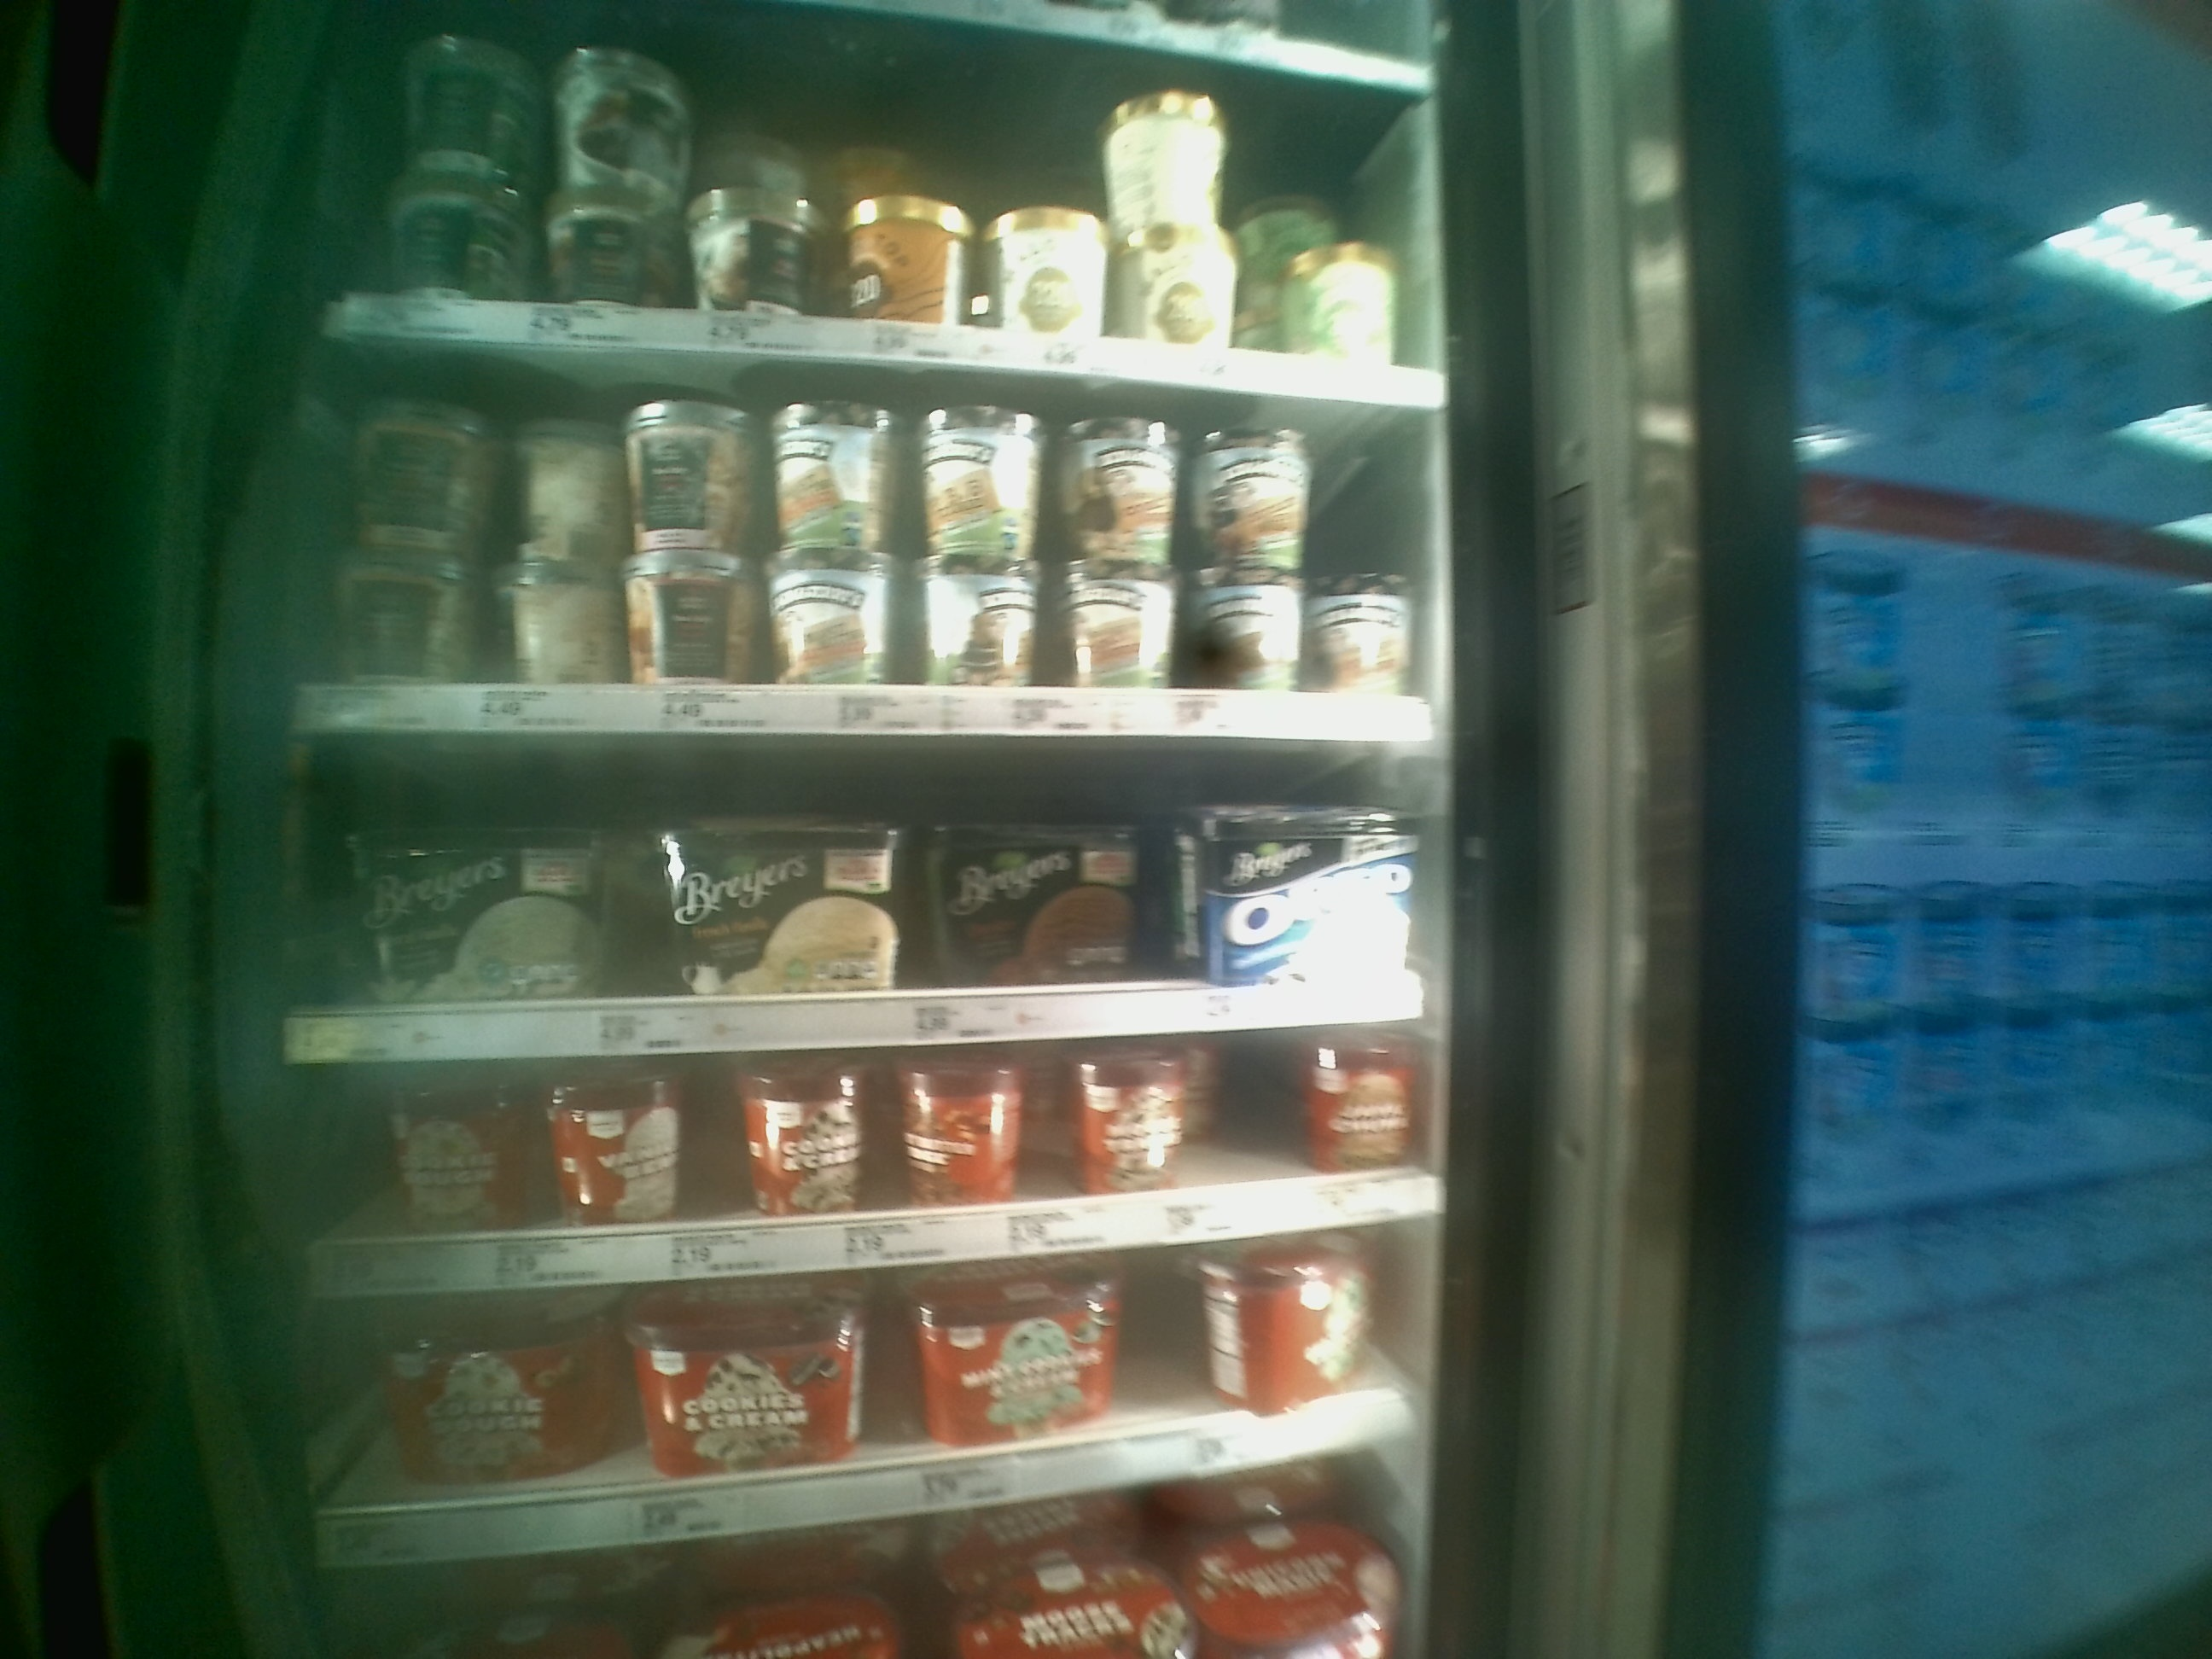ice-cream-shelf: (319, 352, 1413, 742), (298, 746, 1423, 1047)
